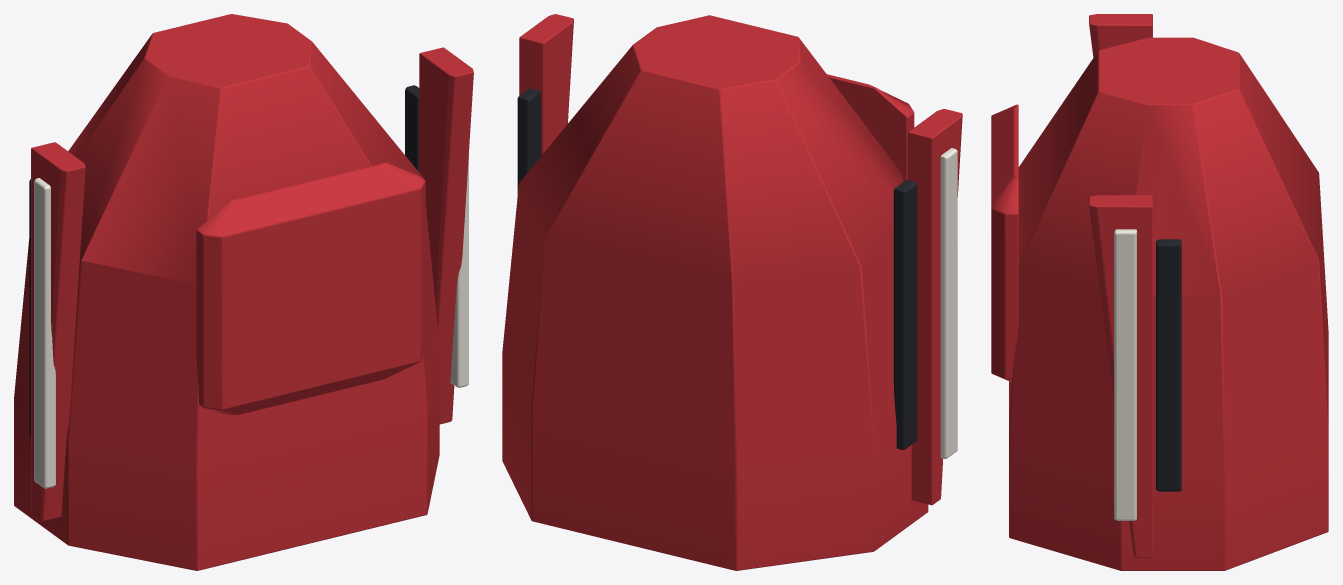
Rendered from QuadBodyFront_Set05_Afterburn.fbx.
3 views of the same model, side by side, from view 1: azimuth 30°, elevation 25°; view 2: azimuth 150°, elevation 25°; view 3: azimuth 270°, elevation 25° (orthographic). The views are drawn at different scales.
Parts seen in each view (by area): view 1: QuadBodyFront_Set05_Afterburn; view 2: QuadBodyFront_Set05_Afterburn; view 3: QuadBodyFront_Set05_Afterburn.
Boxes of the visible parts, x1,y1,x2,y2 form: QuadBodyFront_Set05_Afterburn: [14, 14, 473, 570]; QuadBodyFront_Set05_Afterburn: [502, 14, 962, 570]; QuadBodyFront_Set05_Afterburn: [991, 14, 1328, 570].
Size of the model in its own units: 1.03 by 1 by 0.739.
